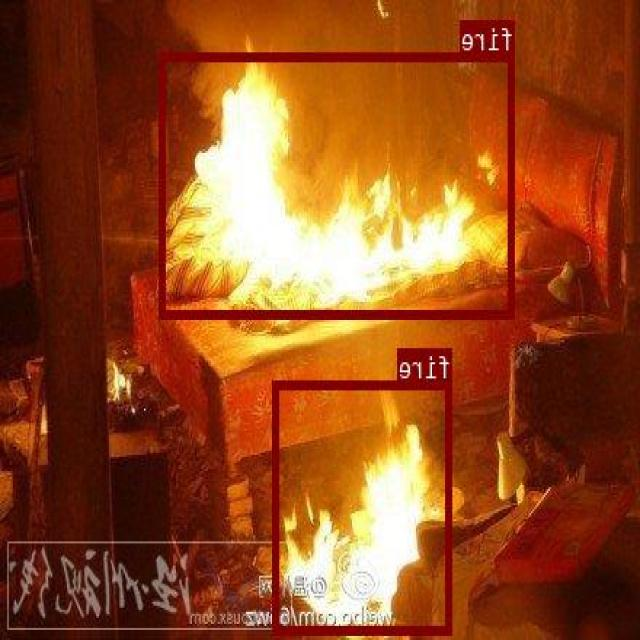fire: (160, 52, 516, 318), (274, 378, 454, 632)
